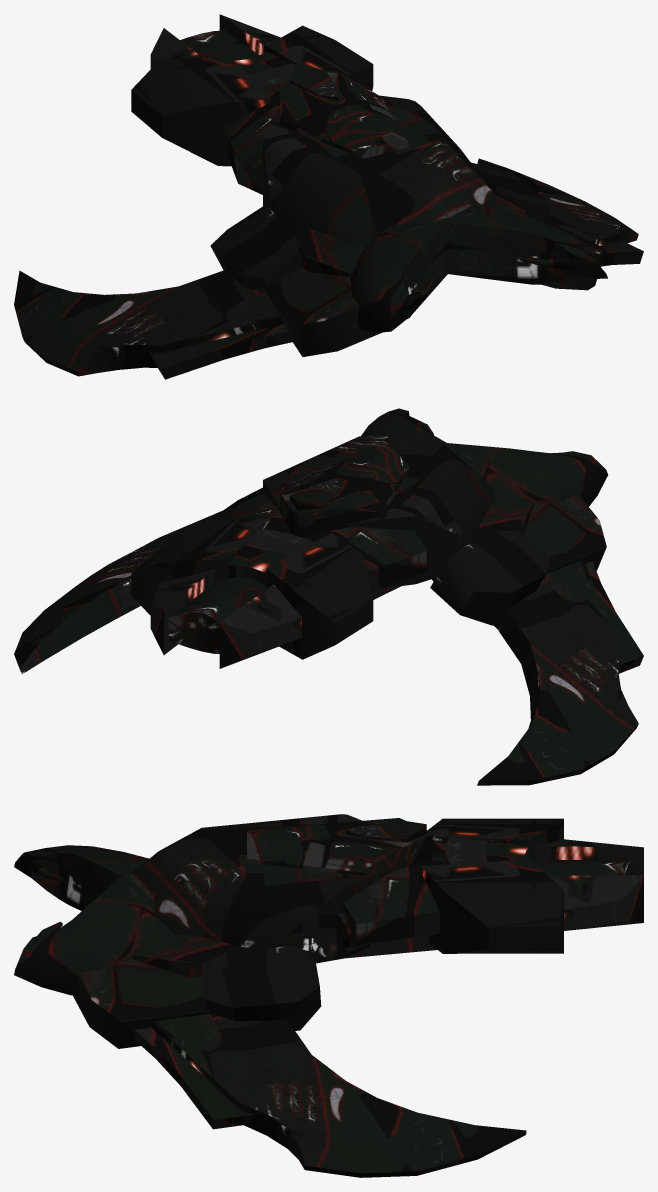
Rendered from ship20d.fbx.
3 views of the same model, one above another, from view 1: azimuth 30°, elevation 25°; view 2: azimuth 150°, elevation 25°; view 3: azimuth 270°, elevation 25° (orthographic). The views are drawn at different scales.
Visible parts, largest first — view 1: 00_Core, 05_WingRight, 02_FrontRight, 03_RearLeft, 04_RearRight, 01_FrontLeft, 06_WingLeft; view 2: 00_Core, 05_WingRight, 02_FrontRight, 01_FrontLeft, 04_RearRight, 06_WingLeft, 03_RearLeft; view 3: 00_Core, 03_RearLeft, 01_FrontLeft, 06_WingLeft, 02_FrontRight, 04_RearRight.
Boxes of the visible parts, left/top/right/bottom form: 00_Core: left=180, top=30, right=643, bottom=356; 05_WingRight: left=14, top=270, right=293, bottom=379; 02_FrontRight: left=131, top=28, right=270, bottom=166; 03_RearLeft: left=443, top=205, right=607, bottom=290; 04_RearRight: left=350, top=219, right=447, bottom=332; 01_FrontLeft: left=219, top=14, right=373, bottom=90; 06_WingLeft: left=477, top=158, right=638, bottom=243; 00_Core: left=84, top=433, right=606, bottom=653; 05_WingRight: left=477, top=559, right=643, bottom=785; 02_FrontRight: left=219, top=533, right=373, bottom=668; 01_FrontLeft: left=131, top=518, right=270, bottom=654; 04_RearRight: left=445, top=443, right=607, bottom=506; 06_WingLeft: left=14, top=564, right=108, bottom=674; 03_RearLeft: left=361, top=408, right=446, bottom=444; 00_Core: left=60, top=814, right=633, bottom=1148; 03_RearLeft: left=14, top=875, right=212, bottom=1048; 01_FrontLeft: left=420, top=859, right=643, bottom=953; 06_WingLeft: left=288, top=1098, right=526, bottom=1177; 02_FrontRight: left=428, top=818, right=643, bottom=875; 04_RearRight: left=14, top=845, right=148, bottom=910.
Size of the model in its own units: 22250 by 7749 by 20772.
Materials: 1 (1 with a texture image).
